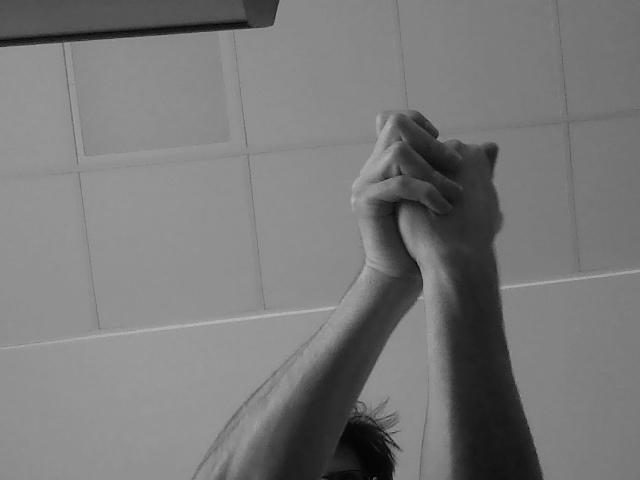friend: (350, 103, 502, 283)
